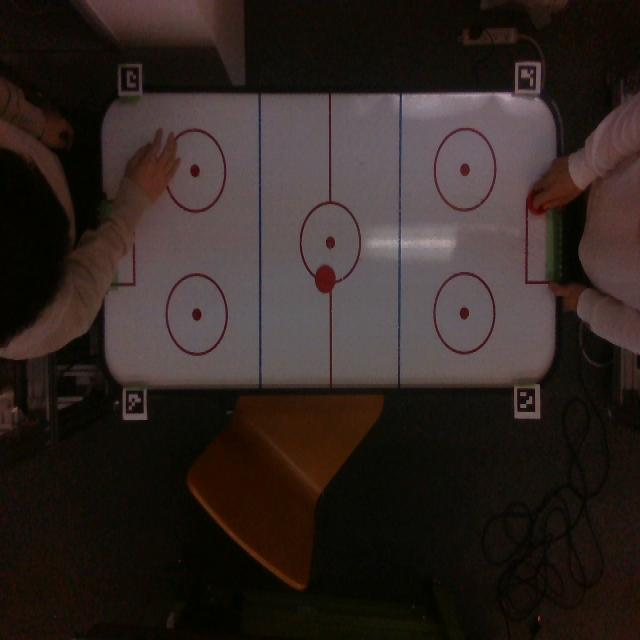puck: (315, 265, 336, 293)
